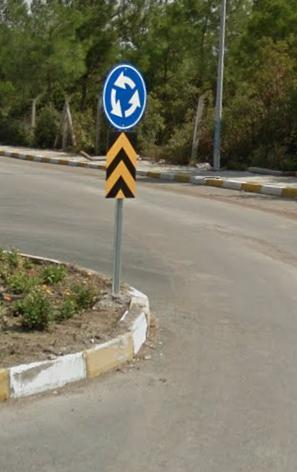crossroads: (105, 69, 149, 125)
